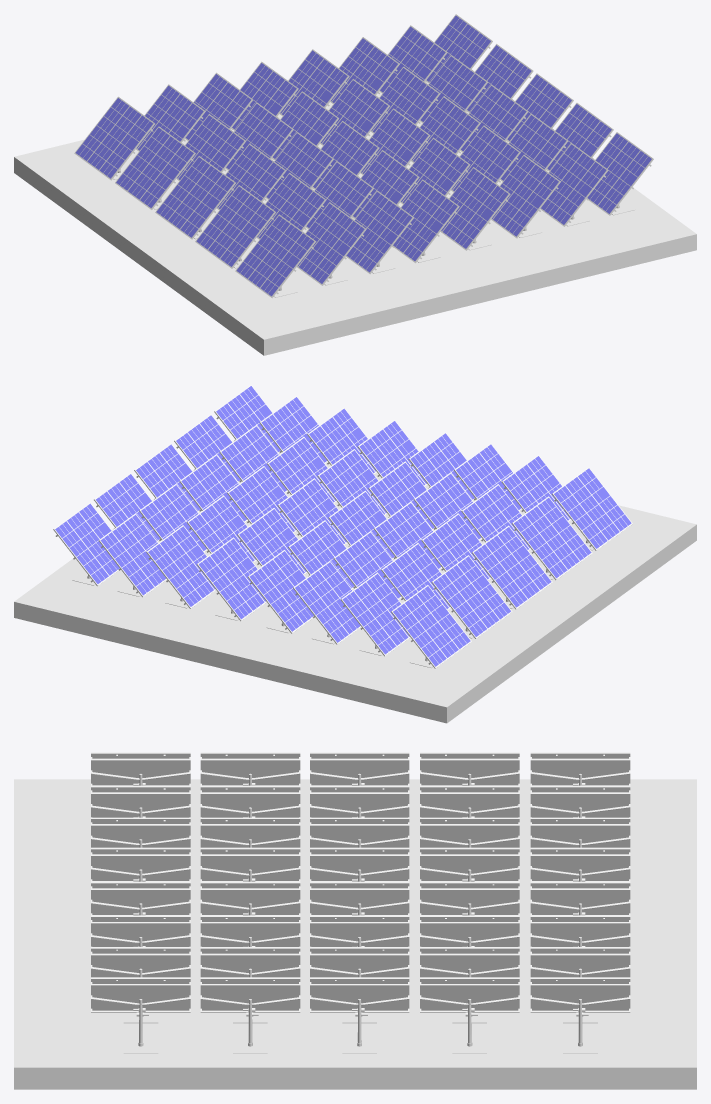
The picture shows the model from 3 angles, top to bottom: view 1: azimuth 30°, elevation 25°; view 2: azimuth 150°, elevation 25°; view 3: azimuth 270°, elevation 25°; orthographic projection. The views are drawn at different scales.
Parts seen in each view (by area): view 1: pCube1, Plane_003_Environment_2_0 (×5), Plane_003_Environment_2_24, Plane_003_Environment_2_5, Plane_003_Environment_2_33, Plane_003_Environment_2_10, Plane_003_Environment_2_32, Plane_003_Environment_2_28, Plane_003_Environment_2_15, Plane_003_Environment_2_17, Plane_003_Environment_2_18, Plane_003_Environment_2_22 (+25 smaller); view 2: pCube1, Plane_003_Environment_2_0 (×5), Plane_003_Environment_2_17, Plane_003_Environment_2_1, Plane_003_Environment_2_31, Plane_003_Environment_2_6, Plane_003_Environment_2_30, Plane_003_Environment_2_25, Plane_003_Environment_2_11, Plane_003_Environment_2_18, Plane_003_Environment_2_21, Plane_003_Environment_2_16 (+25 smaller); view 3: pCube1, Plane_003_Environment_2_0 (×5), Plane_003_Environment_2_23, Plane_003_Environment_2_25, Plane_003_Environment_2_28, Plane_003_Environment_2_26, Plane_003_Environment_2_27, Plane_003_Environment_2_11, Plane_003_Environment_2_14, Plane_003_Environment_2_22, Plane_003_Environment_2_17, Plane_003_Environment_2_15 (+30 smaller).
Boxes of the visible parts, left/top/right/bottom form: pCube1: left=14, top=70, right=696, bottom=355; Plane_003_Environment_2_0 (×5): left=74, top=96, right=316, bottom=298; Plane_003_Environment_2_24: left=440, top=167, right=510, bottom=250; Plane_003_Environment_2_5: left=297, top=202, right=366, bottom=285; Plane_003_Environment_2_33: left=491, top=155, right=560, bottom=238; Plane_003_Environment_2_10: left=346, top=190, right=414, bottom=274; Plane_003_Environment_2_32: left=540, top=143, right=608, bottom=226; Plane_003_Environment_2_28: left=587, top=132, right=653, bottom=215; Plane_003_Environment_2_15: left=393, top=179, right=459, bottom=263; Plane_003_Environment_2_17: left=279, top=49, right=349, bottom=116; Plane_003_Environment_2_18: left=320, top=79, right=389, bottom=145; Plane_003_Environment_2_22: left=400, top=137, right=470, bottom=203; pCube1: left=14, top=441, right=696, bottom=723; Plane_003_Environment_2_0 (×5): left=391, top=467, right=632, bottom=668; Plane_003_Environment_2_17: left=196, top=537, right=266, bottom=621; Plane_003_Environment_2_1: left=340, top=572, right=410, bottom=656; Plane_003_Environment_2_31: left=146, top=525, right=215, bottom=608; Plane_003_Environment_2_6: left=293, top=561, right=361, bottom=644; Plane_003_Environment_2_30: left=98, top=513, right=166, bottom=597; Plane_003_Environment_2_25: left=53, top=502, right=119, bottom=586; Plane_003_Environment_2_11: left=247, top=550, right=313, bottom=633; Plane_003_Environment_2_18: left=237, top=508, right=307, bottom=574; Plane_003_Environment_2_21: left=277, top=478, right=347, bottom=544; Plane_003_Environment_2_16: left=186, top=495, right=256, bottom=562; pCube1: left=14, top=779, right=696, bottom=1089; Plane_003_Environment_2_0 (×5): left=91, top=752, right=630, bottom=785; Plane_003_Environment_2_23: left=200, top=977, right=300, bottom=1012; Plane_003_Environment_2_25: left=530, top=977, right=630, bottom=1012; Plane_003_Environment_2_28: left=91, top=977, right=190, bottom=1012; Plane_003_Environment_2_26: left=420, top=977, right=519, bottom=1012; Plane_003_Environment_2_27: left=310, top=977, right=409, bottom=1012; Plane_003_Environment_2_11: left=530, top=847, right=630, bottom=881; Plane_003_Environment_2_14: left=200, top=847, right=300, bottom=881; Plane_003_Environment_2_22: left=200, top=881, right=300, bottom=915; Plane_003_Environment_2_17: left=530, top=881, right=630, bottom=915; Plane_003_Environment_2_15: left=91, top=847, right=190, bottom=881.
Size of the model in its own units: 0.3625 by 0.0599 by 0.3625.
